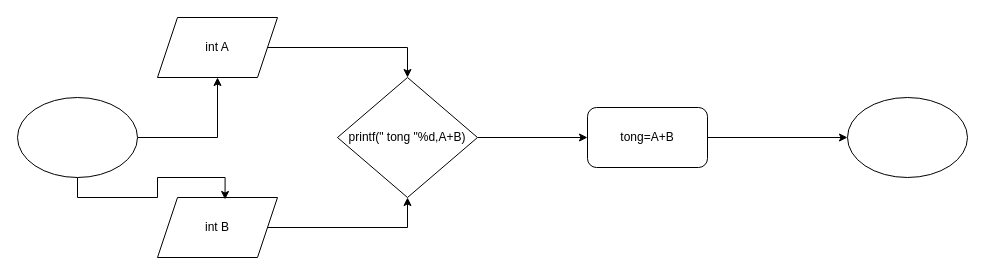
This 985x275 diagram has some shape labels left out. The shapes that lost their labels are listed below. From the top down, each one's box as (x1, y1, x2, y2) in pixels, then its label:
(16, 96, 138, 178): star
(846, 96, 968, 178): end
